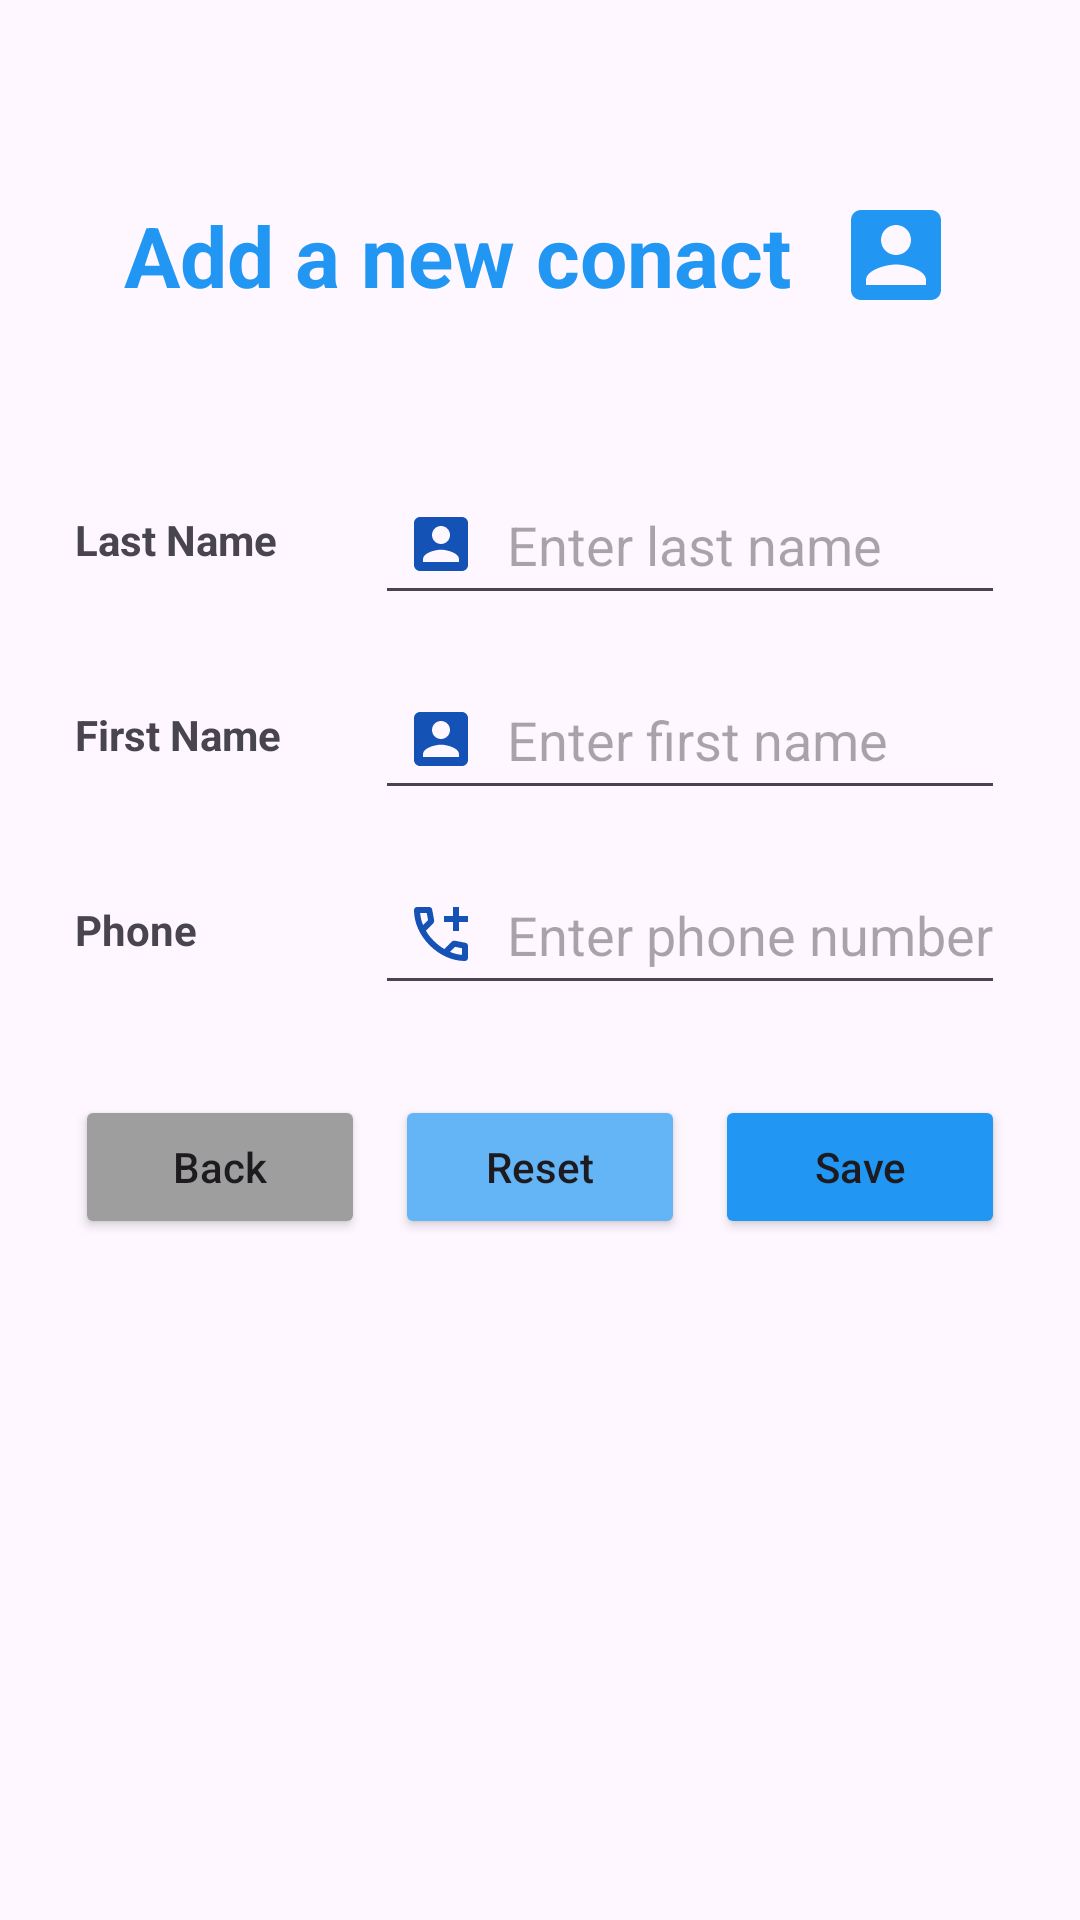

Where to tap for icons on this 1080 × 1920 app screen, as point (x, y):
account: point (896, 255)
